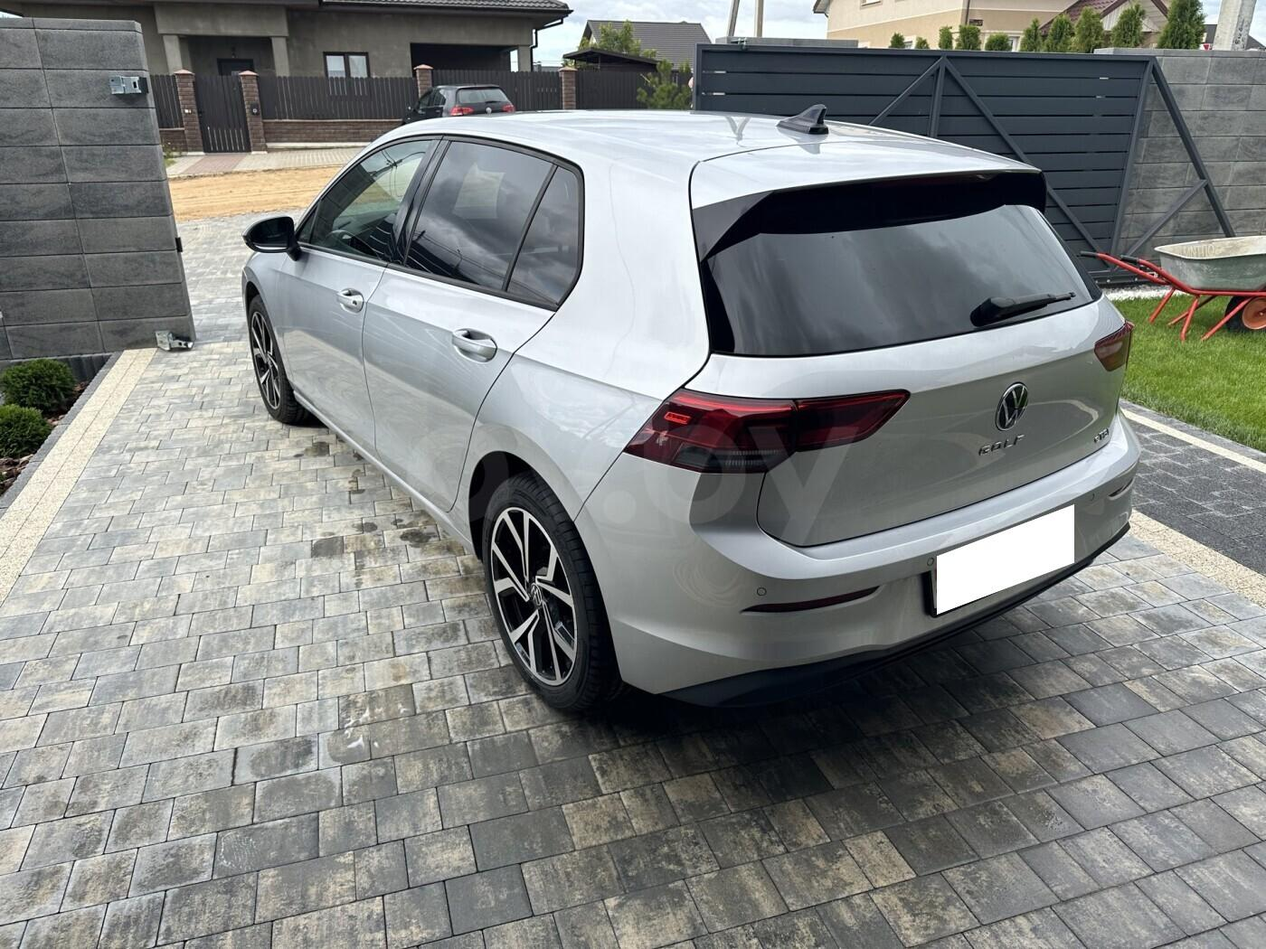Golf_2019: (236, 106, 1143, 730)
